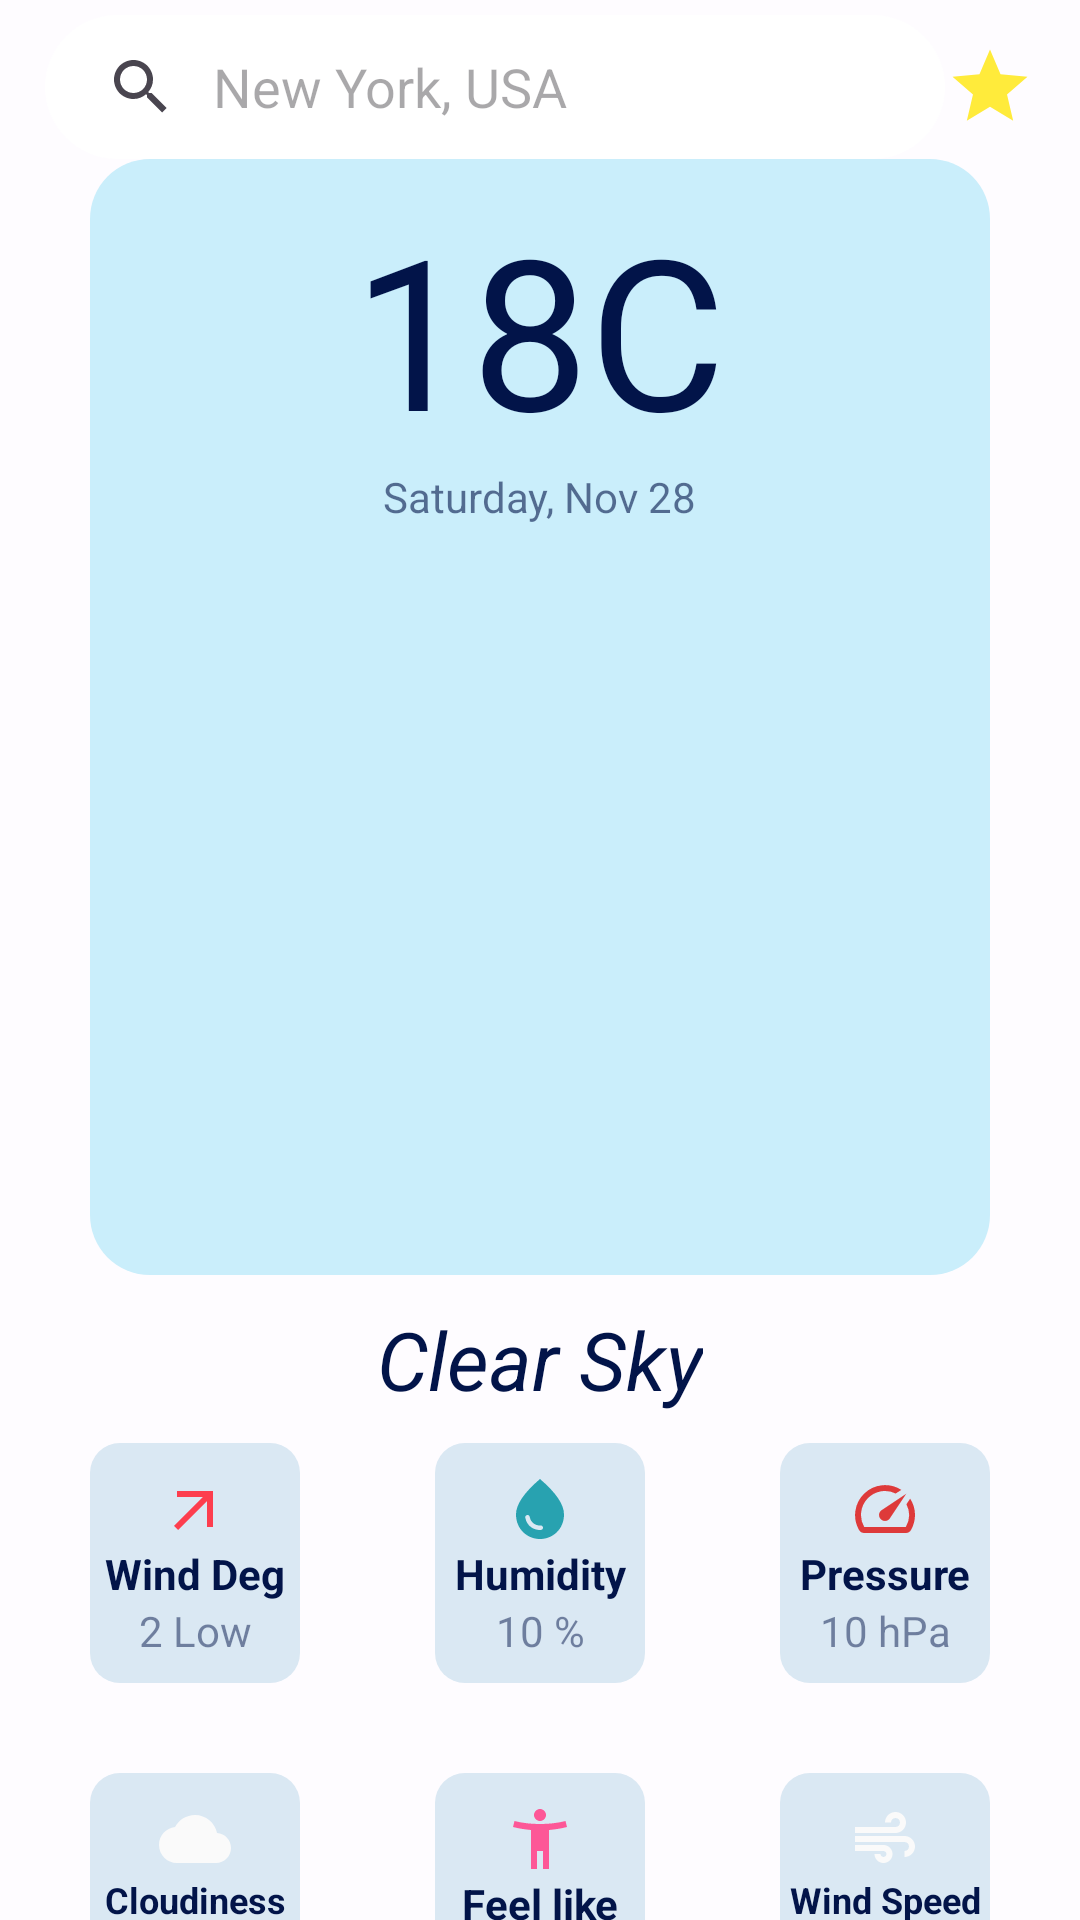

Named icons in this screenshot (1080×1920) and their bounding boxes, (x1, y1, x2, y2):
arrow: (174, 1491, 213, 1530)
star: (953, 50, 1027, 121)
water drop: (516, 1479, 564, 1539)
